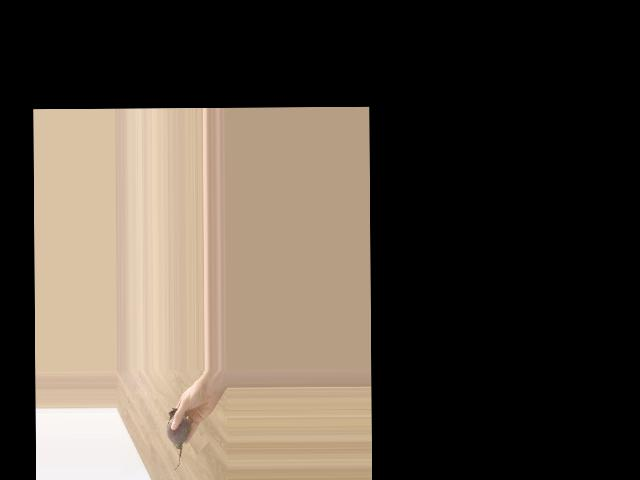beet: (166, 407, 189, 470)
